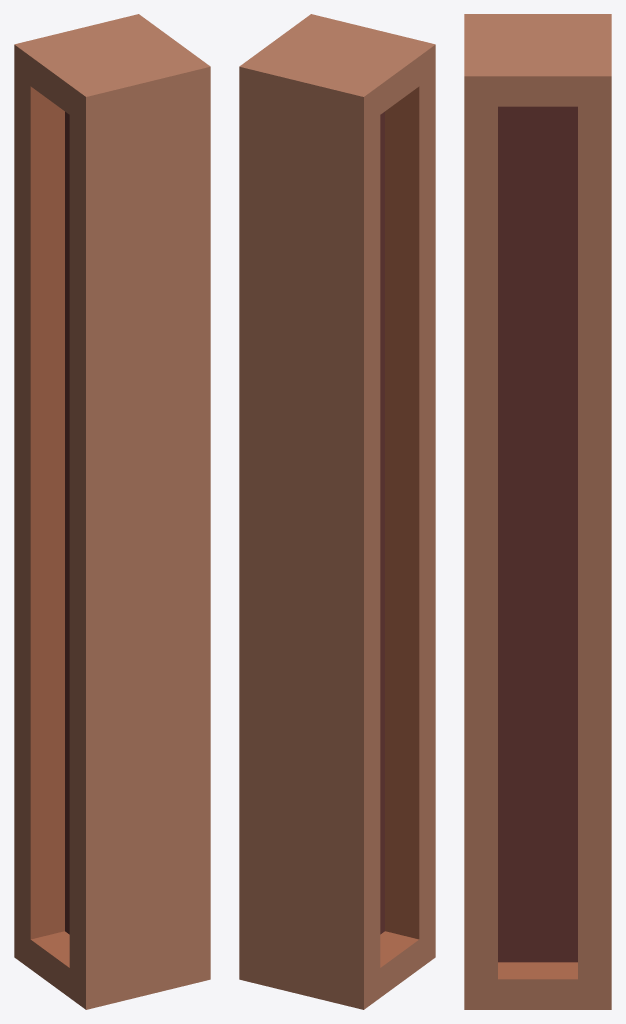
File: balka.fbx
3 views of the same model, side by side, from view 1: azimuth 30°, elevation 25°; view 2: azimuth 150°, elevation 25°; view 3: azimuth 270°, elevation 25° (orthographic). The views are drawn at different scales.
Parts seen in each view (by area): view 1: Cube.001; view 2: Cube.001; view 3: Cube.001.
Part boxes in pixels (x1=…): Cube.001: x1=14, y1=14, x2=210, y2=1009; Cube.001: x1=239, y1=14, x2=435, y2=1009; Cube.001: x1=464, y1=14, x2=611, y2=1009.
Size of the model in its own units: 100 by 700 by 100.
